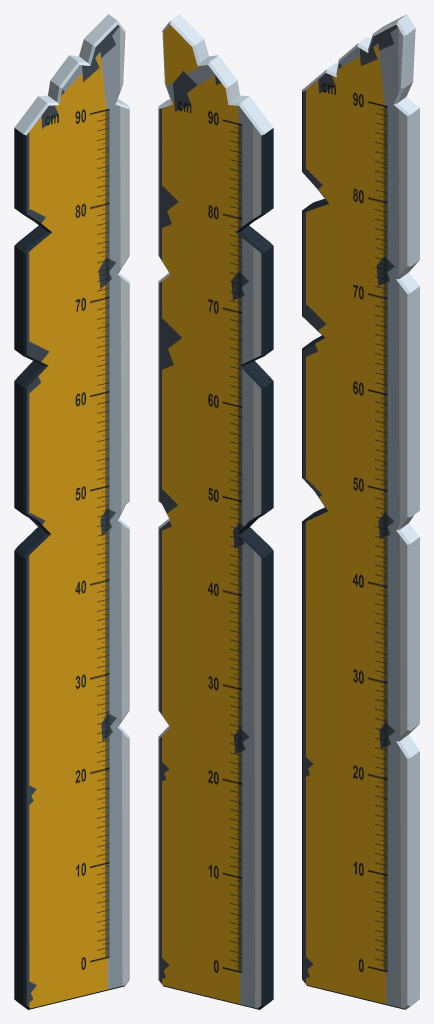
File: Ruler_Weapon_Final.obj
3 views of the same model, side by side, from view 1: azimuth 30°, elevation 25°; view 2: azimuth 150°, elevation 25°; view 3: azimuth 330°, elevation 25° (orthographic). The views are drawn at different scales.
Visible parts, largest first — view 1: WeaponPrint, DarkSteel, EdgeSteel; view 2: WeaponPrint, DarkSteel, EdgeSteel; view 3: WeaponPrint, EdgeSteel, DarkSteel.
Part boxes in pixels (x1,y1,x2,y2): WeaponPrint: [26, 25, 128, 1008]; DarkSteel: [14, 128, 124, 1009]; EdgeSteel: [14, 14, 129, 985]; WeaponPrint: [159, 25, 261, 1008]; DarkSteel: [163, 128, 273, 1009]; EdgeSteel: [158, 14, 273, 985]; WeaponPrint: [303, 24, 407, 1008]; EdgeSteel: [302, 14, 419, 1009]; DarkSteel: [302, 90, 404, 1009].
Bounding box in the file's own units: 0.13 × 1.13 × 0.024.
3 materials, 1 textured.
